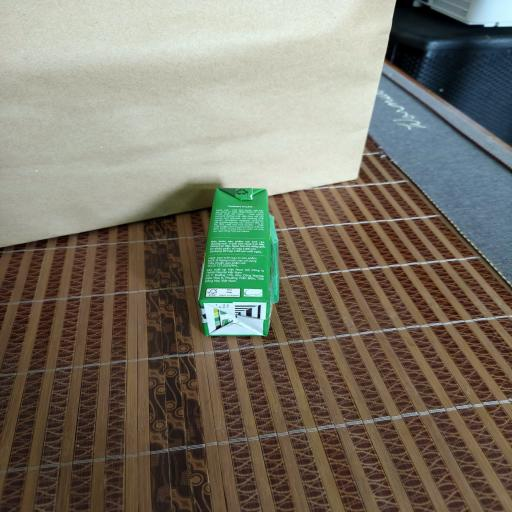milo: (198, 188, 280, 338)
